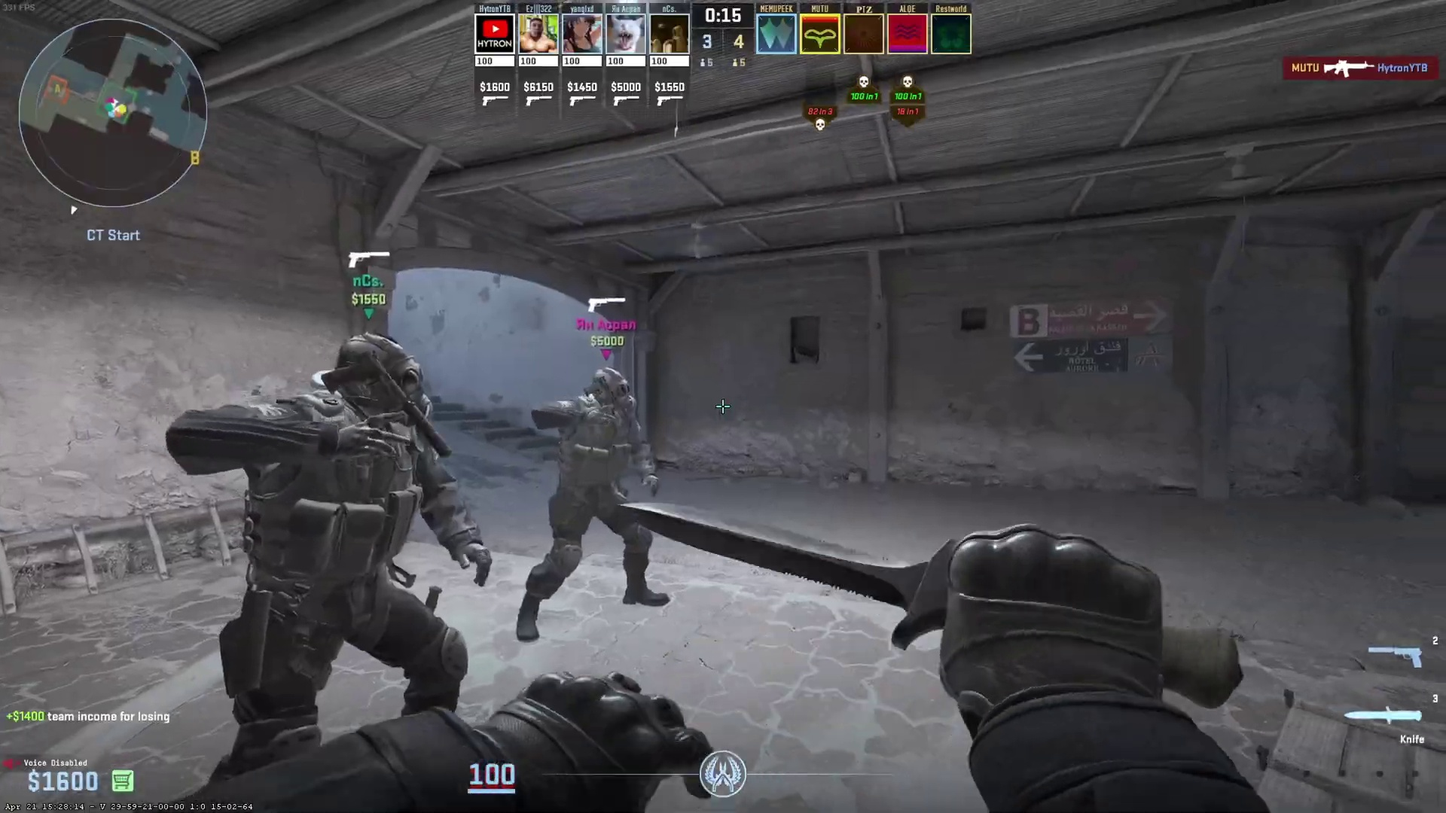CT: (215, 331, 467, 772), (522, 367, 668, 638)
